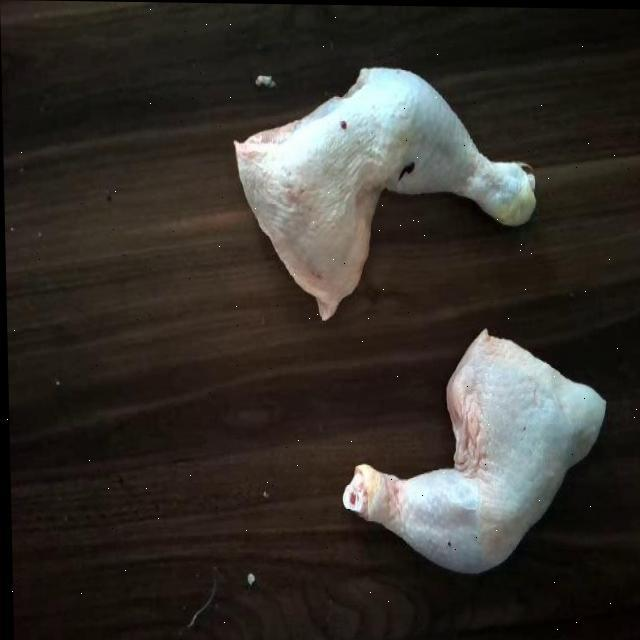quater: (232, 50, 540, 308), (337, 322, 616, 582)
